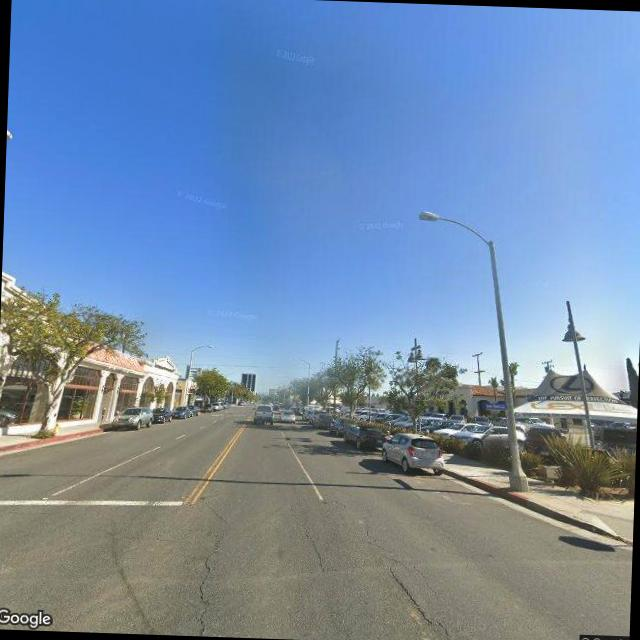crack: (370, 552, 477, 640), (187, 534, 223, 636), (298, 522, 327, 576)
